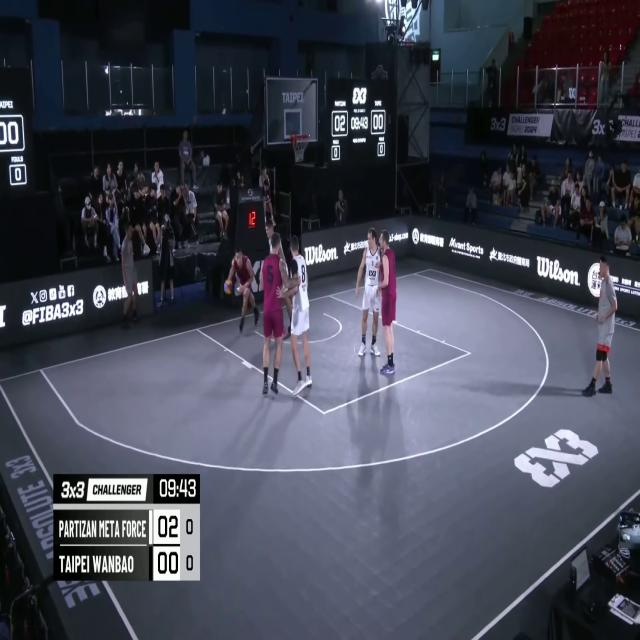ball: (222, 278, 235, 296)
hoop: (290, 132, 309, 166)
player: (280, 234, 314, 394), (258, 231, 290, 396), (353, 229, 381, 360), (222, 242, 260, 332), (375, 229, 397, 379), (264, 217, 281, 260)
